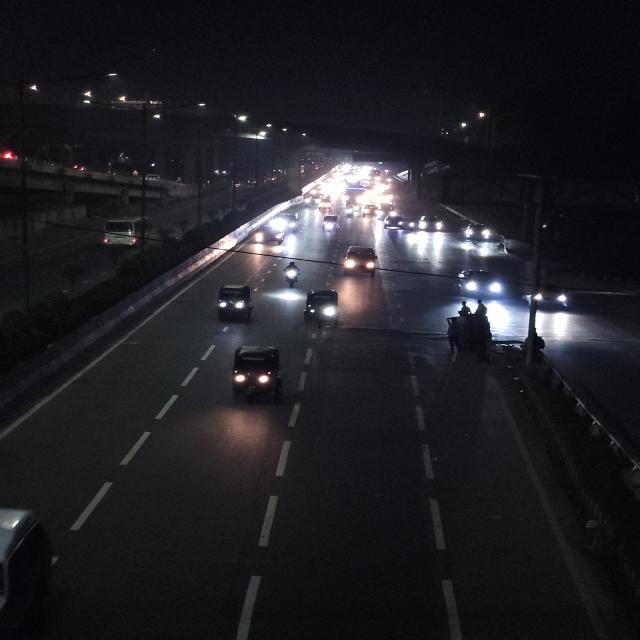car: (100, 217, 152, 250), (338, 242, 380, 280), (451, 268, 503, 298), (461, 218, 493, 244), (255, 226, 288, 246), (277, 212, 303, 232), (419, 214, 443, 231), (383, 214, 404, 230), (363, 205, 381, 218)
cng: (219, 344, 294, 403), (214, 280, 258, 323), (299, 289, 339, 332), (318, 213, 343, 234), (317, 198, 333, 212)
motorcycle: (283, 260, 301, 288), (408, 217, 417, 234)
pedestrian: (440, 317, 468, 357), (451, 300, 471, 318), (477, 298, 491, 322)
